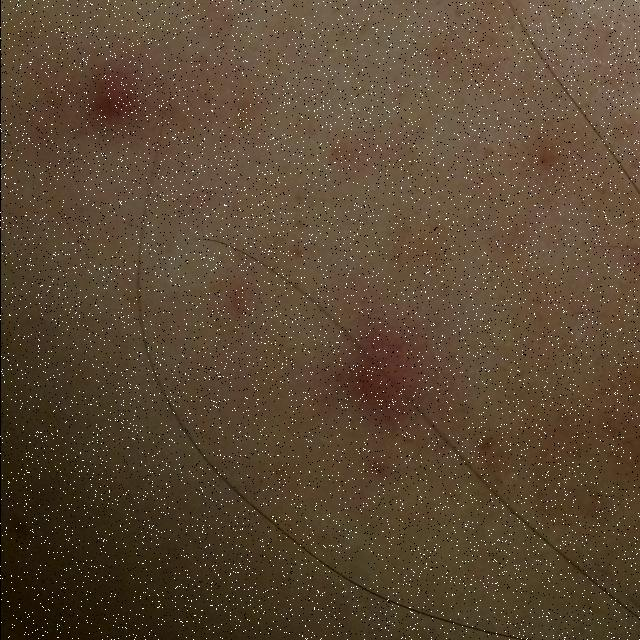nodules: (330, 313, 442, 423), (71, 46, 157, 147)
